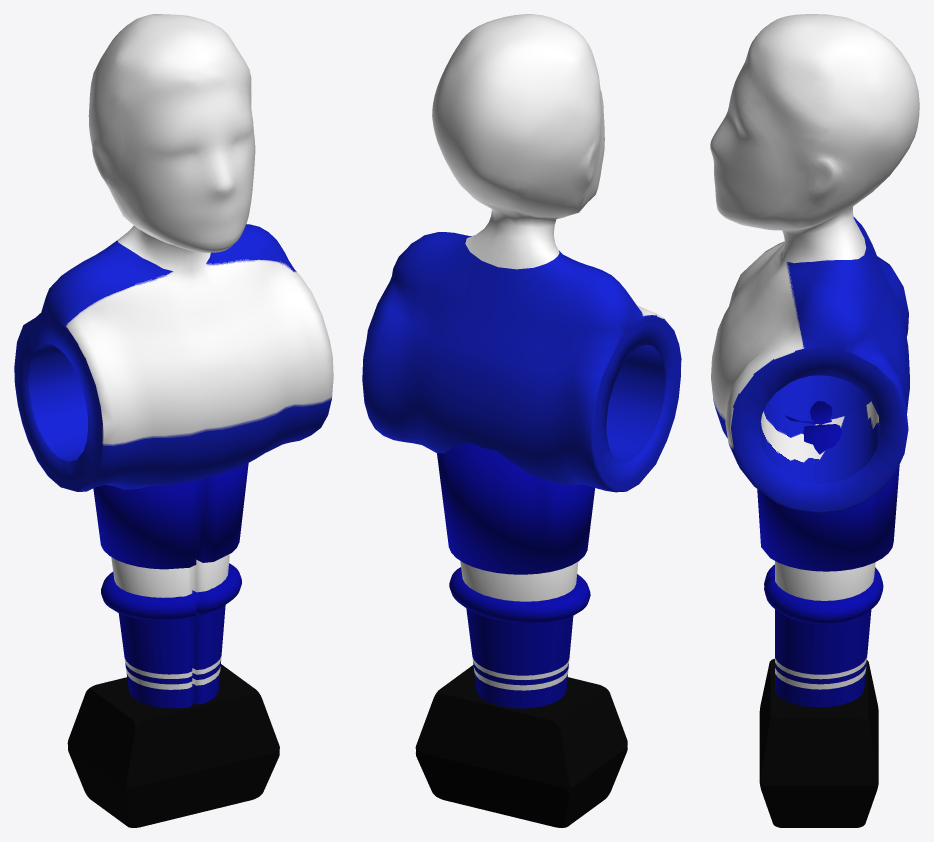
File: foosball_player_blue_v2.obj
The picture shows the model from 3 angles, left to right: view 1: azimuth 30°, elevation 25°; view 2: azimuth 150°, elevation 25°; view 3: azimuth 270°, elevation 25°; orthographic projection.
Parts seen in each view (by area): view 1: Body_Cylinder.001; view 2: Body_Cylinder.001; view 3: Body_Cylinder.001.
Part boxes in pixels (bbox=[...]): Body_Cylinder.001: bbox=[14, 14, 333, 827]; Body_Cylinder.001: bbox=[362, 14, 681, 827]; Body_Cylinder.001: bbox=[710, 14, 919, 827].
Size of the model in its own units: 4.49 by 14.32 by 3.52.
